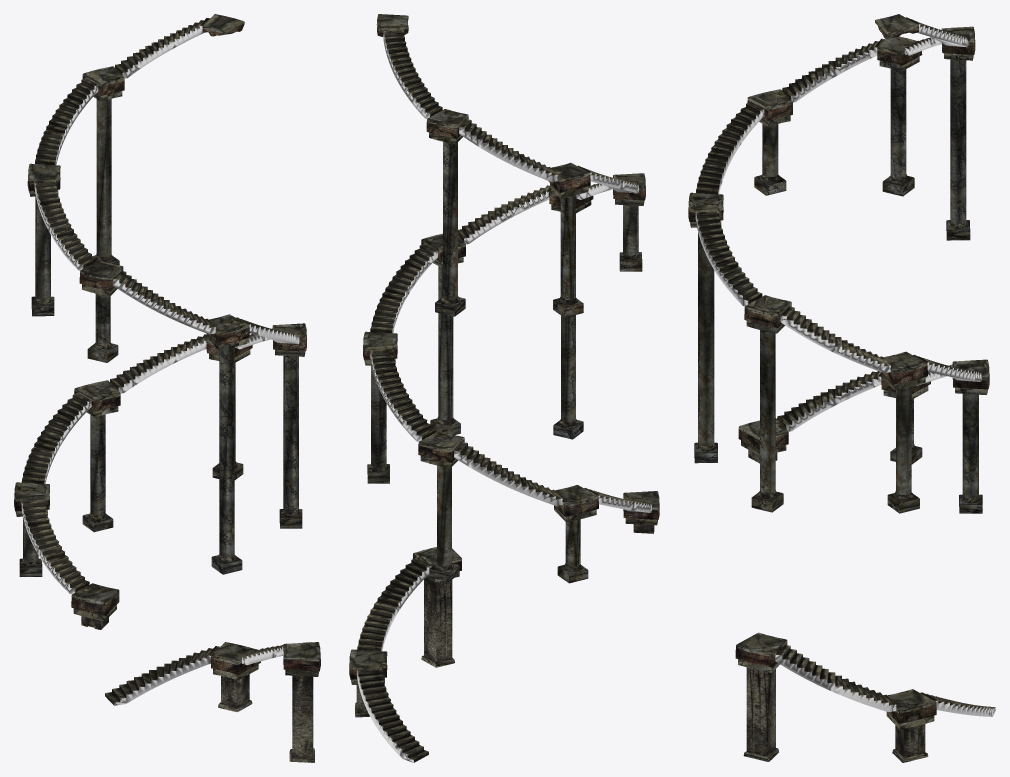
3 views of the same model, side by side, from view 1: azimuth 30°, elevation 25°; view 2: azimuth 150°, elevation 25°; view 3: azimuth 270°, elevation 25° (orthographic). The views are drawn at different scales.
Visible parts, largest first — view 1: mesh6, mesh8, mesh1, mesh0, mesh2, mesh9, mesh3, mesh5; view 2: mesh8, mesh6, mesh1, mesh0, mesh2, mesh9, mesh3, mesh5; view 3: mesh6, mesh8, mesh1, mesh0, mesh2, mesh9, mesh3, mesh5.
Part boxes in pixels (box(x1,y1,x2,y2)): mesh6: box(23, 99, 298, 562); mesh8: box(21, 18, 311, 705); mesh1: box(14, 14, 320, 762); mesh0: box(21, 26, 299, 705); mesh2: box(21, 98, 313, 758); mesh9: box(14, 24, 320, 674); mesh3: box(19, 255, 302, 576); mesh5: box(15, 91, 318, 680); mesh8: box(357, 30, 651, 762); mesh6: box(371, 141, 638, 566); mesh1: box(349, 14, 659, 717); mesh0: box(357, 32, 651, 762); mesh2: box(356, 142, 654, 712); mesh9: box(349, 24, 659, 679); mesh3: box(367, 252, 642, 583); mesh5: box(351, 132, 657, 684); mesh6: box(698, 59, 978, 498); mesh8: box(696, 17, 995, 709); mesh1: box(688, 14, 989, 762); mesh0: box(695, 24, 995, 716); mesh2: box(695, 59, 981, 757); mesh9: box(688, 26, 989, 723); mesh3: box(694, 175, 982, 513); mesh5: box(690, 53, 987, 729).
Size of the model in its own units: 17.14 by 44.2 by 17.02.
